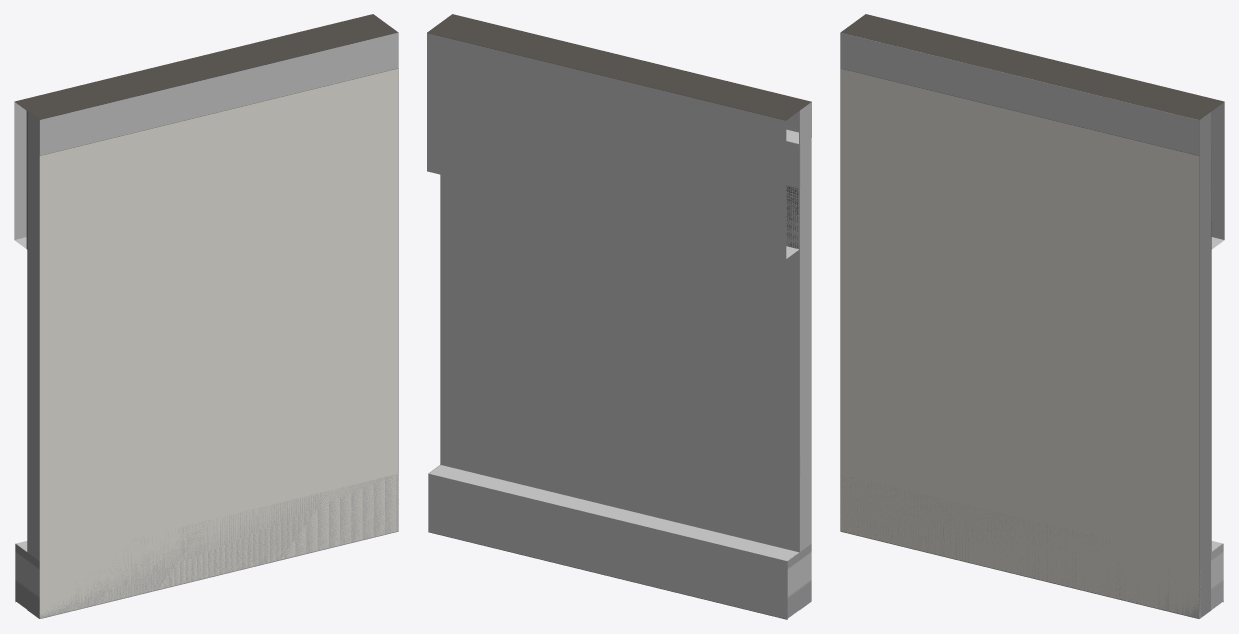
Rendered from police_station_wall_back_type2.FBX.
3 views of the same model, side by side, from view 1: azimuth 30°, elevation 25°; view 2: azimuth 150°, elevation 25°; view 3: azimuth 330°, elevation 25° (orthographic).
Parts seen in each view (by area): view 1: police_station_wall_back_type2_002; view 2: police_station_wall_back_type2_002; view 3: police_station_wall_back_type2_002.
Boxes of the visible parts, <box> form: police_station_wall_back_type2_002: <box>14,14,398,618</box>; police_station_wall_back_type2_002: <box>427,14,811,619</box>; police_station_wall_back_type2_002: <box>840,14,1224,618</box>.
Size of the model in its own units: 1061 by 1412 by 131.
1 material, 1 textured.
